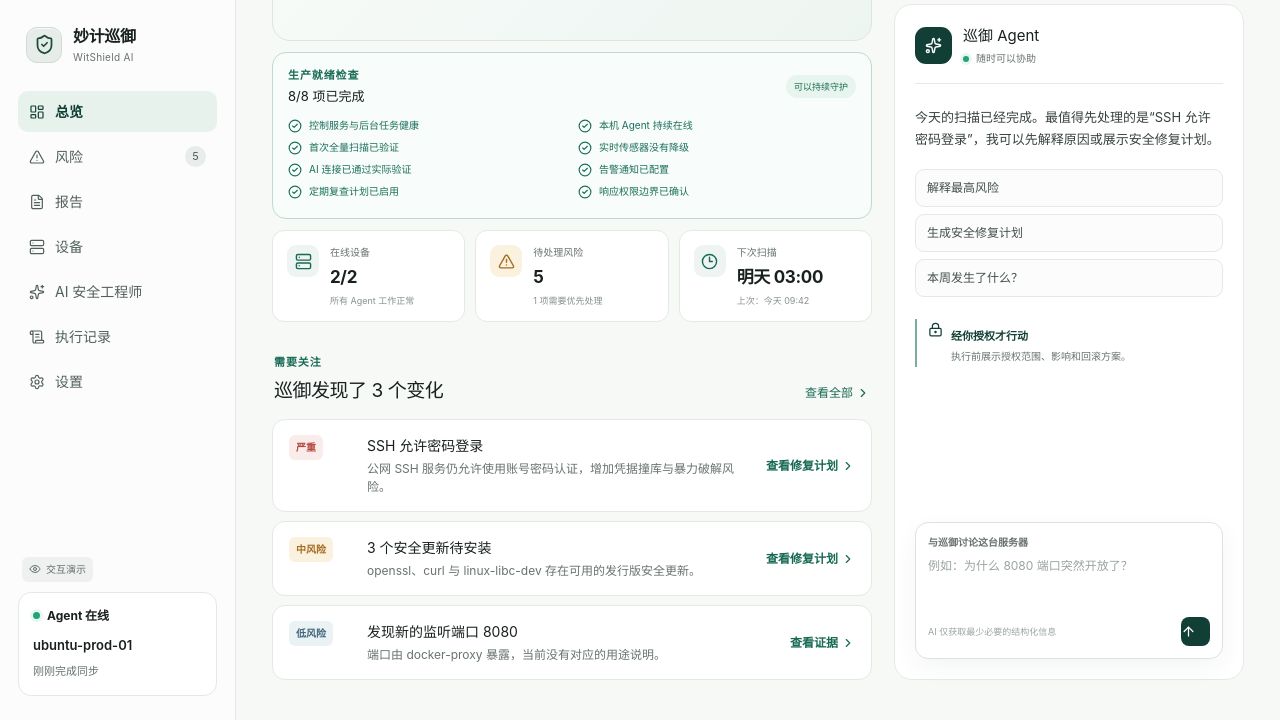
Scenario: WitShieldApp › does not claim package target versions were reviewed before device execution
(page scrolled)
What coordinates should you click on to do the following:
click the button "3 个安全更新待安装"
I would click on:
 (311, 550)
Its box is [272,521,872,596].
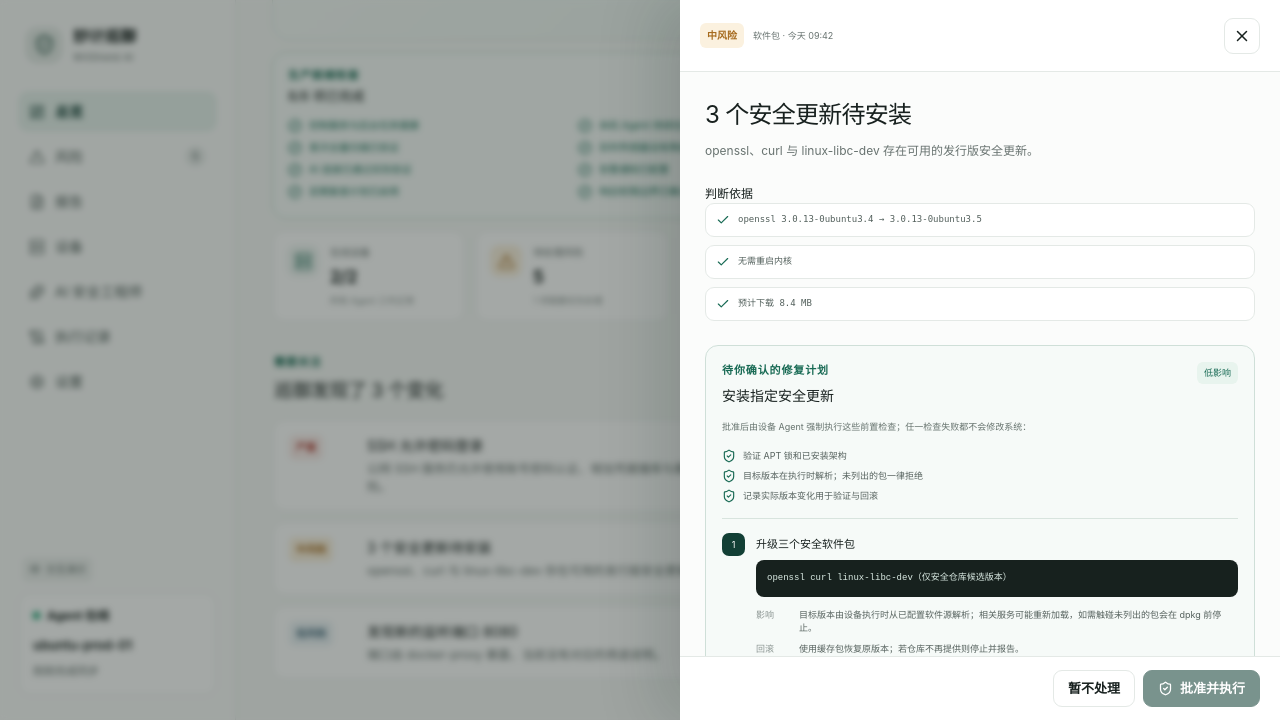
Now the dialog "3 个安全更新待安装" is shown, box [680,0,1279,719]
Now the text "目标版本在执行时解析；未列出的包一律拒绝" is shown, box [722,469,923,483]
